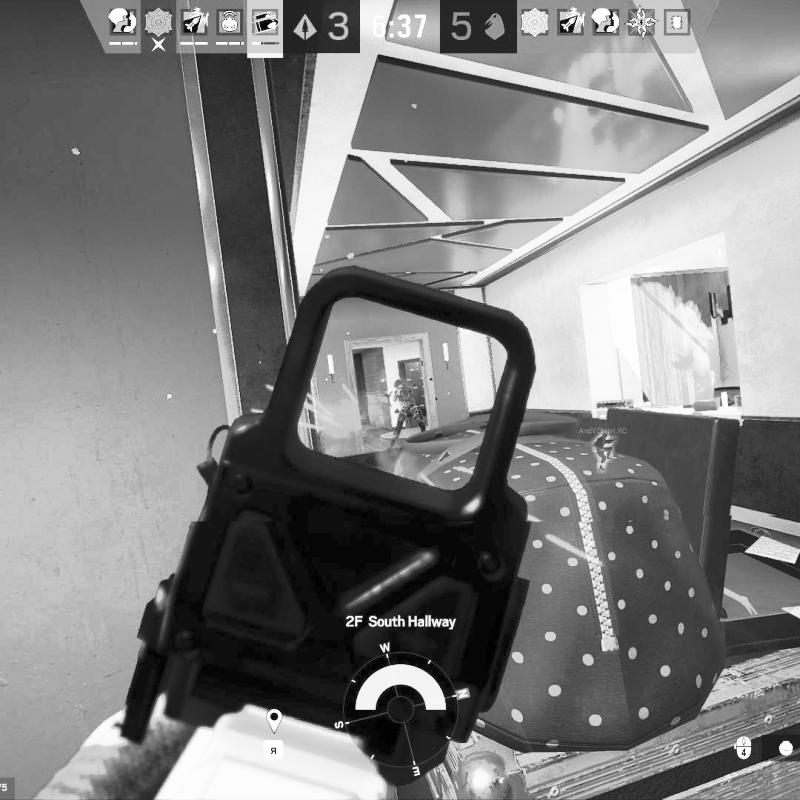Character: (386, 376, 427, 454)
Friend_label: (577, 407, 629, 436)
Head: (393, 378, 405, 391)
